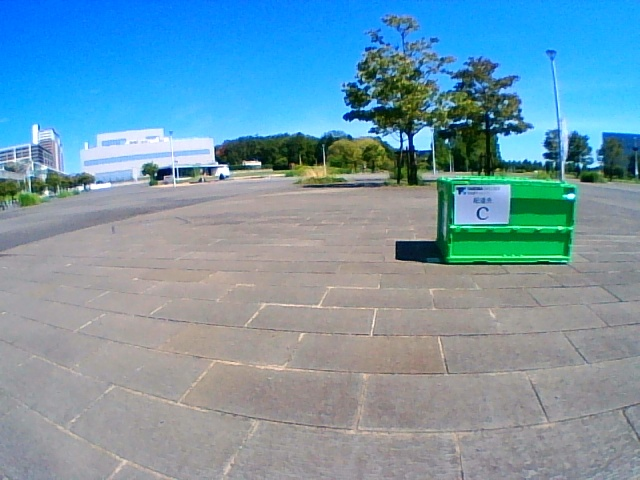green_box: (438, 175, 576, 264)
tag_c: (455, 186, 508, 223)
